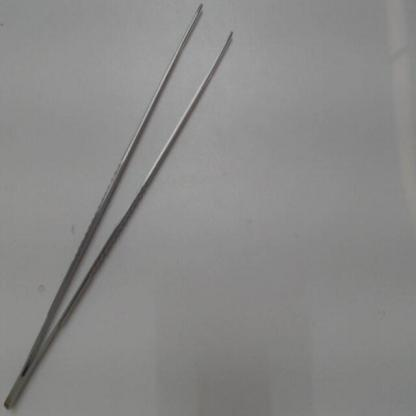DeBakey Dissector: (1, 2, 251, 415)
